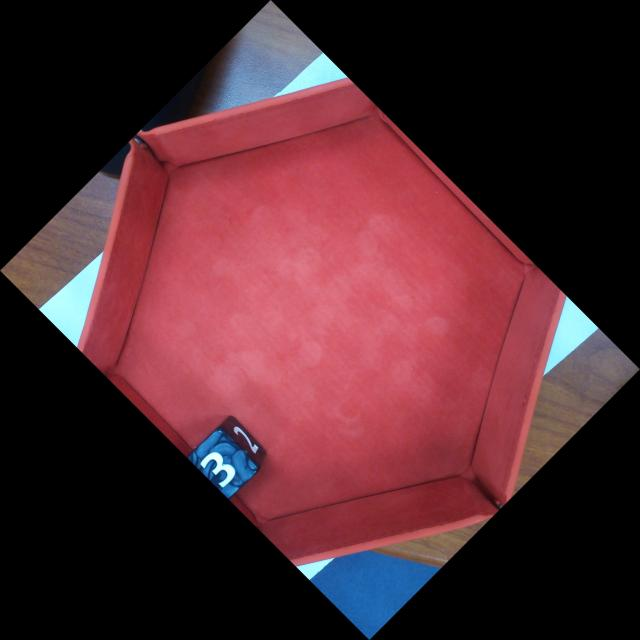dice: (186, 428, 263, 502)
